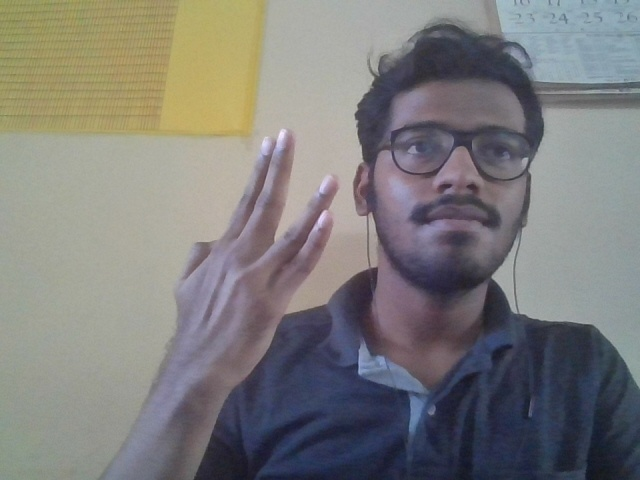LiveLong: (171, 129, 340, 391)
